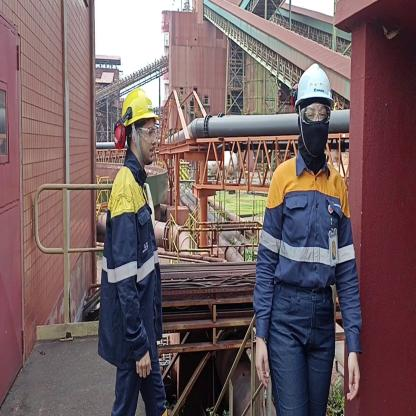Balaclava: (298, 102, 330, 168)
C_eletrica: (96, 164, 164, 361)
Capacete: (295, 62, 335, 103), (119, 88, 158, 121)
Operacional: (256, 155, 362, 353)
